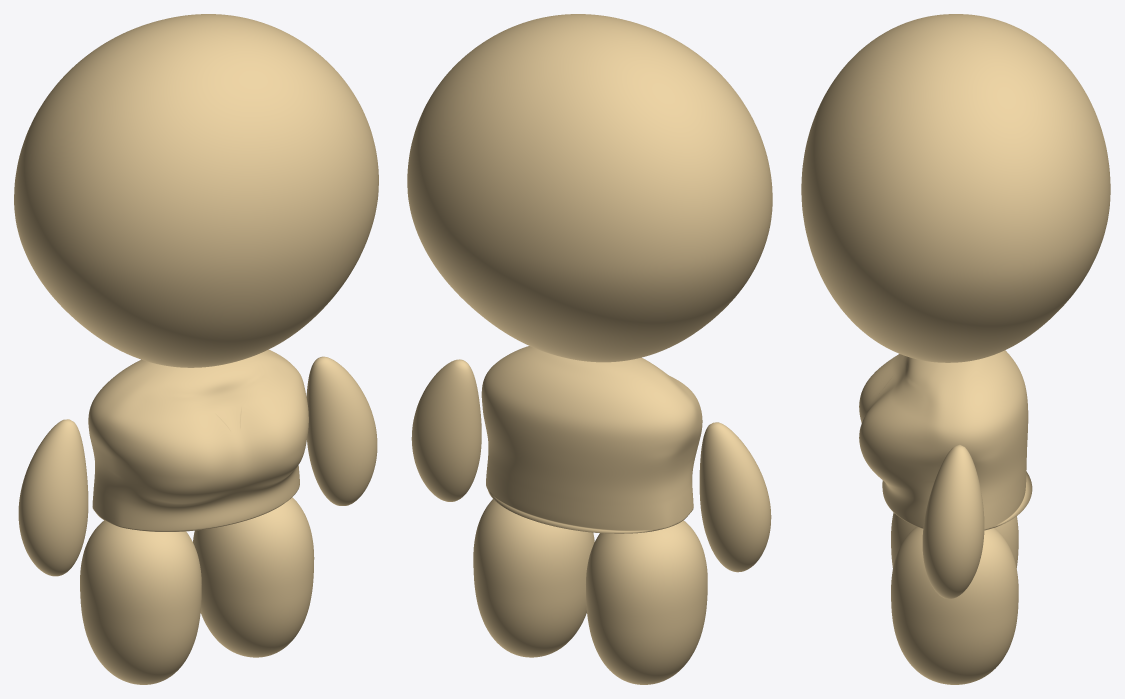
The model's file is Feminine-base.glb.
3 views of the same model, side by side, from view 1: azimuth 30°, elevation 25°; view 2: azimuth 150°, elevation 25°; view 3: azimuth 270°, elevation 25° (orthographic). The views are drawn at different scales.
Visible parts, largest first — view 1: Skin / soft oval head, Skin / rounded torso, Skin / leg blob -1, Skin / leg blob 1, Skin / swept arm -1, Skin / swept arm 1; view 2: Skin / soft oval head, Skin / rounded torso, Skin / leg blob -1, Skin / leg blob 1, Skin / swept arm -1, Skin / swept arm 1; view 3: Skin / soft oval head, Skin / rounded torso, Skin / leg blob 1, Skin / swept arm 1, Skin / leg blob -1.
Part boxes in pixels (left/top/right/bottom): Skin / soft oval head: left=14, top=14, right=378, bottom=367; Skin / rounded torso: left=88, top=349, right=308, bottom=531; Skin / leg blob -1: left=80, top=520, right=201, bottom=684; Skin / leg blob 1: left=193, top=497, right=314, bottom=657; Skin / swept arm -1: left=18, top=419, right=88, bottom=576; Skin / swept arm 1: left=306, top=356, right=377, bottom=505; Skin / soft oval head: left=407, top=14, right=772, bottom=362; Skin / rounded torso: left=481, top=346, right=702, bottom=533; Skin / leg blob -1: left=586, top=520, right=707, bottom=684; Skin / leg blob 1: left=473, top=499, right=594, bottom=657; Skin / swept arm -1: left=699, top=422, right=771, bottom=572; Skin / swept arm 1: left=411, top=359, right=481, bottom=501; Skin / soft oval head: left=801, top=14, right=1110, bottom=362; Skin / rounded torso: left=859, top=350, right=1032, bottom=530; Skin / leg blob 1: left=891, top=526, right=1018, bottom=684; Skin / swept arm 1: left=922, top=444, right=984, bottom=598; Skin / leg blob -1: left=891, top=512, right=1018, bottom=567.
Size of the model in its own units: 1.04 by 1.8 by 0.81.
